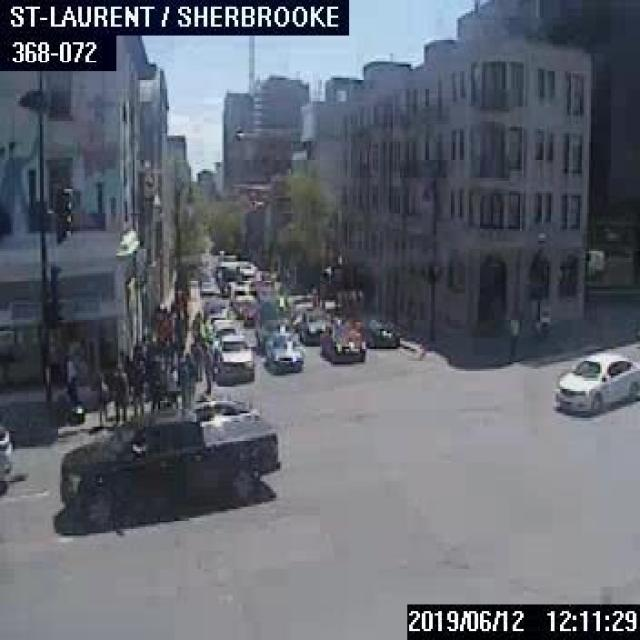pedestrian: (110, 364, 128, 424), (92, 371, 110, 425), (131, 357, 144, 417), (148, 373, 161, 411), (184, 350, 192, 406), (203, 344, 212, 393), (190, 310, 202, 340), (194, 341, 202, 379)
vehicle: (56, 398, 278, 524), (551, 351, 638, 416), (212, 333, 254, 383), (318, 319, 365, 361), (263, 331, 304, 372), (253, 304, 290, 346), (296, 307, 332, 342), (363, 317, 397, 348), (288, 292, 316, 327), (228, 278, 256, 309), (0, 422, 11, 496), (219, 263, 241, 293), (212, 318, 241, 340), (204, 313, 227, 339), (242, 297, 262, 324), (201, 297, 224, 320), (200, 274, 216, 292)
